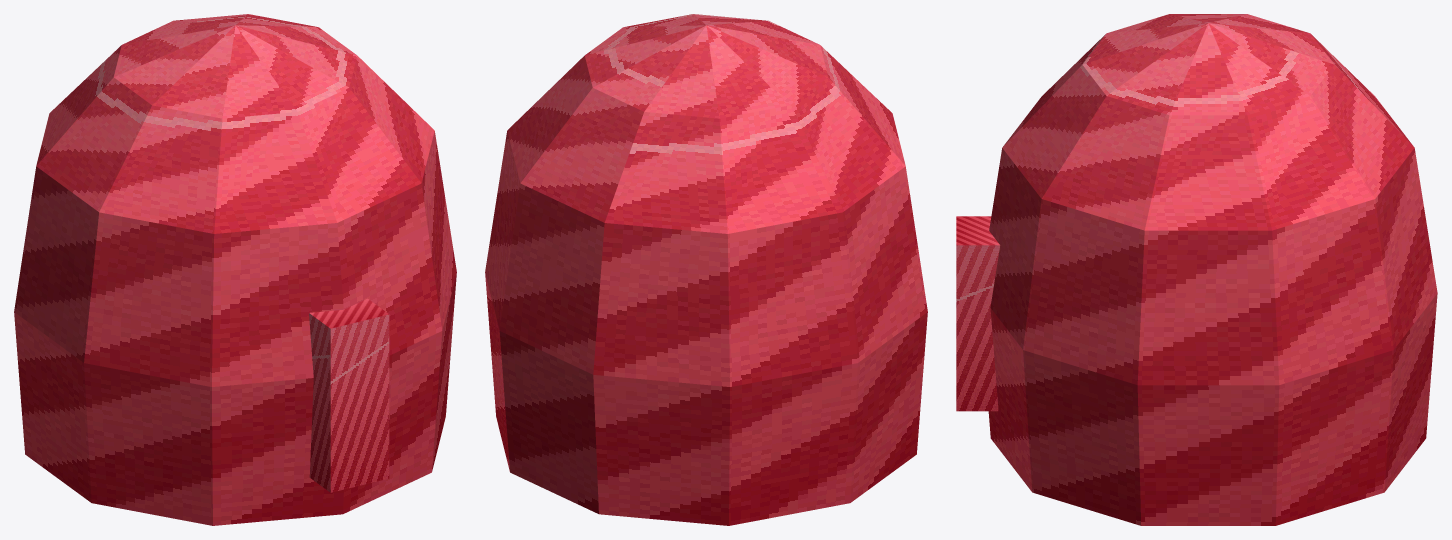
Rendered from capacete_de_rubi.glb.
3 views of the same model, side by side, from view 1: azimuth 30°, elevation 25°; view 2: azimuth 150°, elevation 25°; view 3: azimuth 270°, elevation 25° (orthographic).
Visible parts, largest first — view 1: capacete_de_rubi; view 2: capacete_de_rubi; view 3: capacete_de_rubi.
Boxes of the visible parts, x1,y1,x2,y2 form: capacete_de_rubi: [14, 14, 456, 525]; capacete_de_rubi: [485, 14, 927, 525]; capacete_de_rubi: [956, 14, 1437, 525].
Size of the model in its own units: 0.3804 by 0.4 by 0.42.
1 material, 1 textured.
